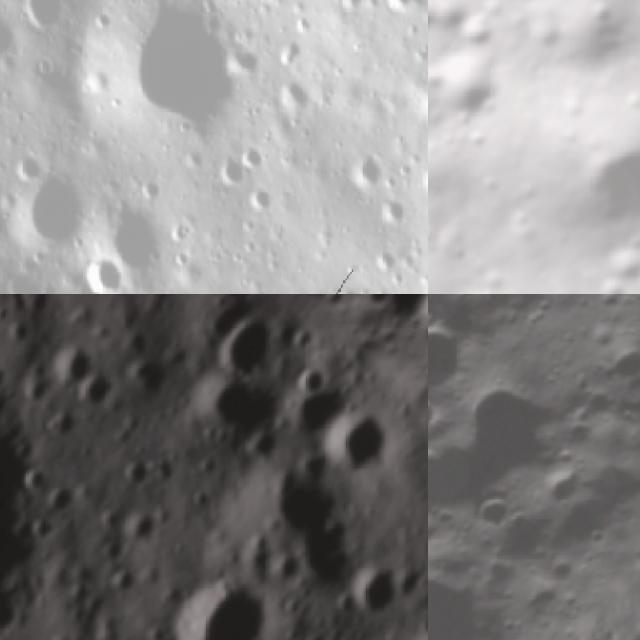crater: (109, 0, 266, 144), (428, 294, 485, 640), (265, 490, 394, 619), (155, 543, 300, 640), (240, 438, 354, 552), (170, 351, 284, 460), (555, 112, 640, 255), (200, 296, 308, 402), (313, 393, 413, 498), (428, 542, 510, 640), (428, 33, 515, 122), (276, 368, 362, 455), (329, 546, 413, 634), (103, 188, 177, 280), (32, 321, 111, 399), (16, 172, 87, 252), (117, 339, 192, 413), (228, 521, 295, 587), (63, 358, 128, 424), (29, 392, 92, 456), (8, 357, 64, 415), (114, 497, 169, 552), (34, 471, 89, 525), (597, 331, 640, 397), (537, 460, 590, 513), (101, 554, 152, 605), (465, 484, 516, 535), (290, 354, 338, 405), (19, 0, 80, 37), (23, 504, 71, 550), (4, 141, 49, 189), (343, 146, 388, 190), (112, 450, 157, 492), (207, 149, 250, 191), (0, 309, 41, 352), (0, 9, 28, 70), (8, 294, 69, 322), (273, 76, 317, 114), (84, 257, 129, 294), (15, 460, 56, 500), (589, 263, 640, 294), (188, 446, 225, 485), (0, 590, 27, 640), (242, 181, 276, 216), (285, 624, 351, 640), (585, 0, 622, 28), (381, 196, 412, 228), (428, 122, 445, 176), (428, 381, 443, 441), (0, 349, 18, 393), (0, 294, 21, 331), (413, 151, 428, 198), (421, 84, 428, 122)
